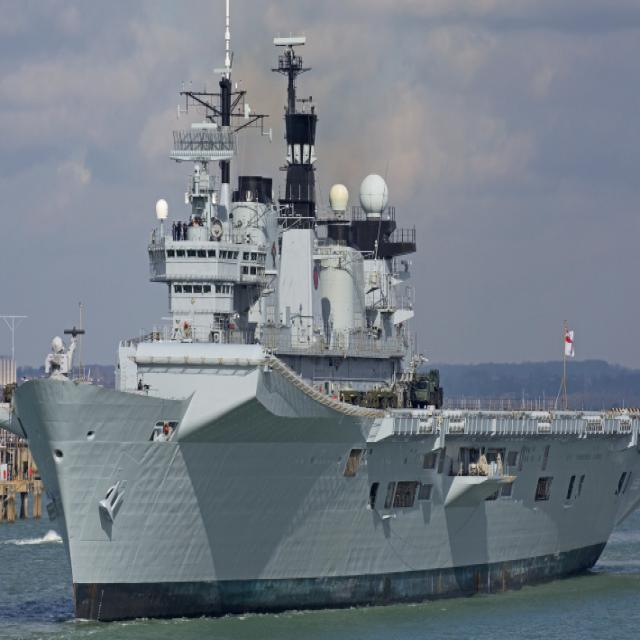Portanaves: (1, 1, 640, 637)
